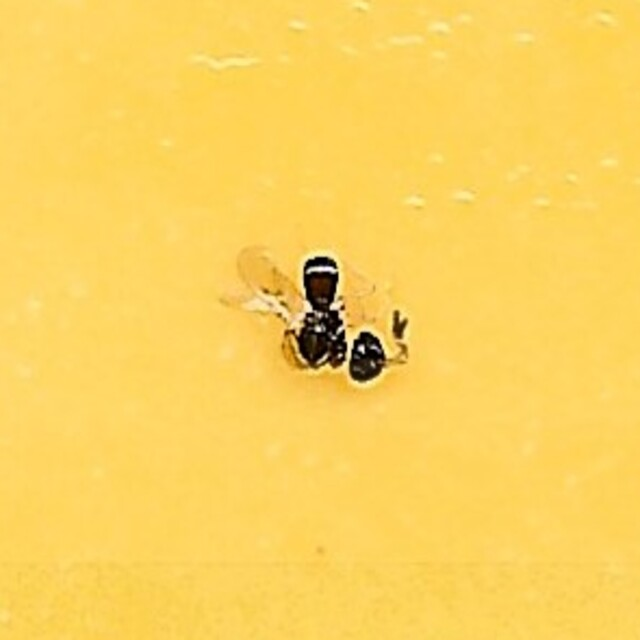Hymenoptera: (217, 242, 423, 398)
